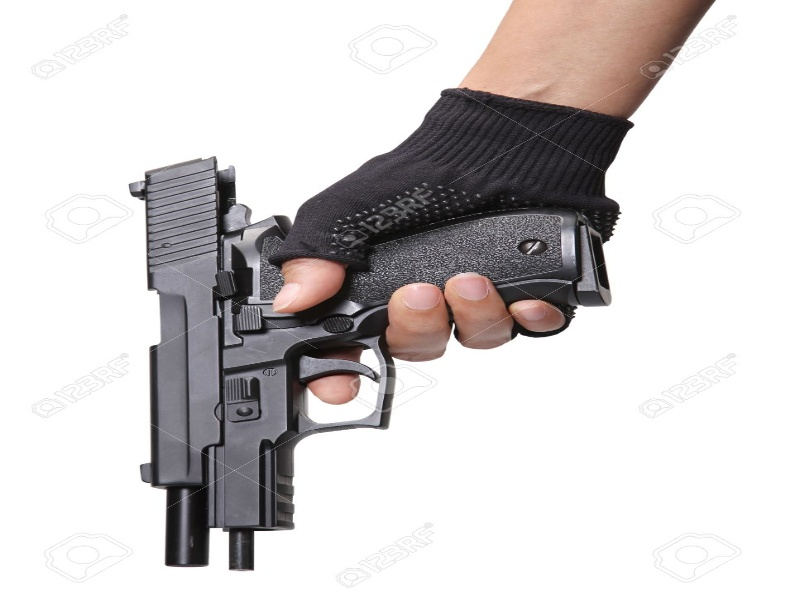gun: (96, 151, 613, 568)
